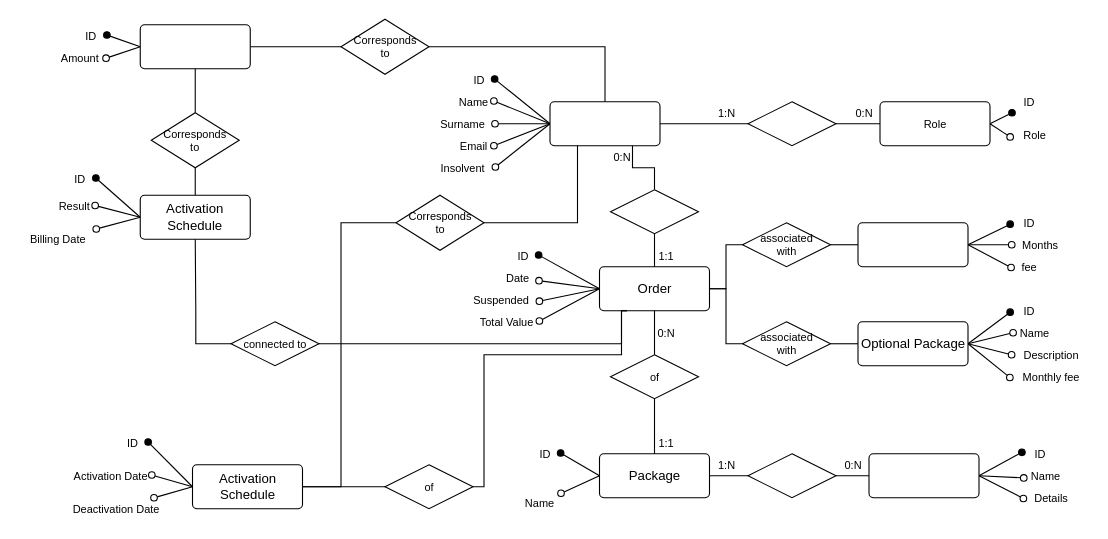
The diagram is 1108 pixels wide and 539 high, and some of its shapes have lost their labels. The centre of each missing label's shape, as x and y in pixels:
"Alert" belongs at point 194,46.
"has role" belongs at point 791,123.
"made" belongs at point 653,211.
"offers" belongs at point 791,475.
"Service" belongs at point 923,475.
"User" belongs at point 604,123.
"ValidityPeriod" belongs at point 912,244.
